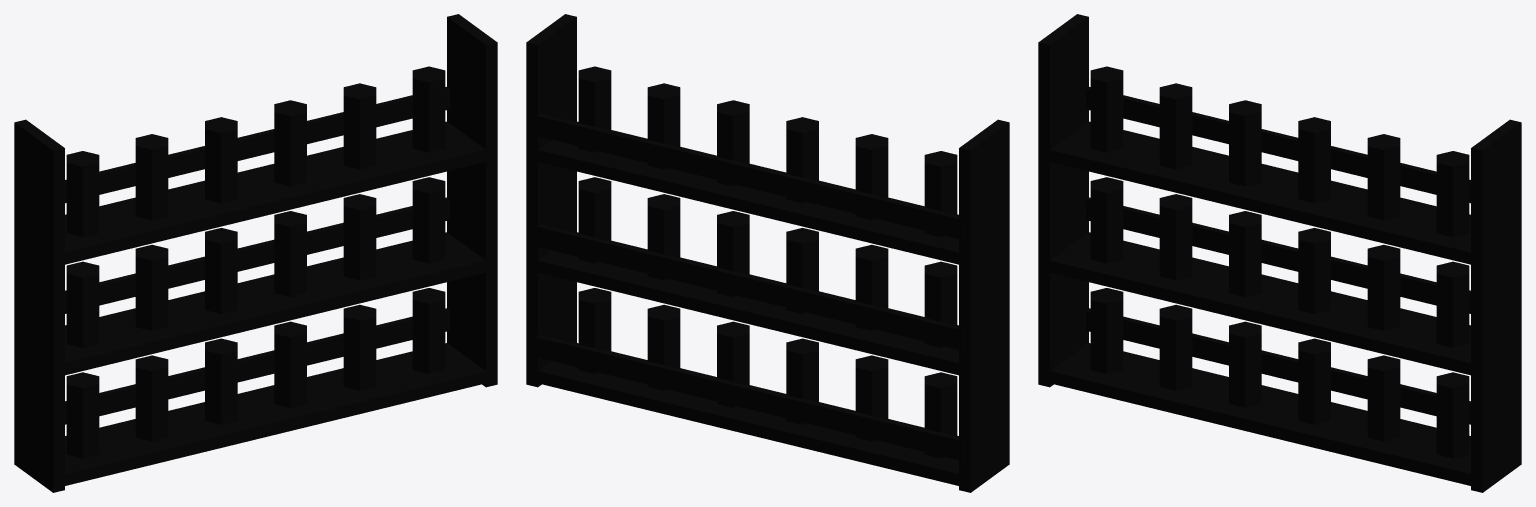
The model's file is SM_spice_rack.fbx.
3 views of the same model, side by side, from view 1: azimuth 30°, elevation 25°; view 2: azimuth 150°, elevation 25°; view 3: azimuth 330°, elevation 25° (orthographic).
Visible parts, largest first — view 1: spice_rack; view 2: spice_rack; view 3: spice_rack.
Part boxes in pixels (box(x1,y1,x2,y2)): spice_rack: box(14, 14, 497, 492); spice_rack: box(526, 14, 1009, 492); spice_rack: box(1038, 14, 1521, 492).
Size of the model in its own units: 0.462 by 0.34 by 0.071.
